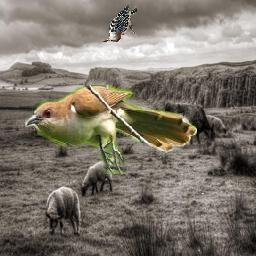Cuckoo: (25, 86, 197, 175)
Woodpecker: (101, 6, 138, 43)
